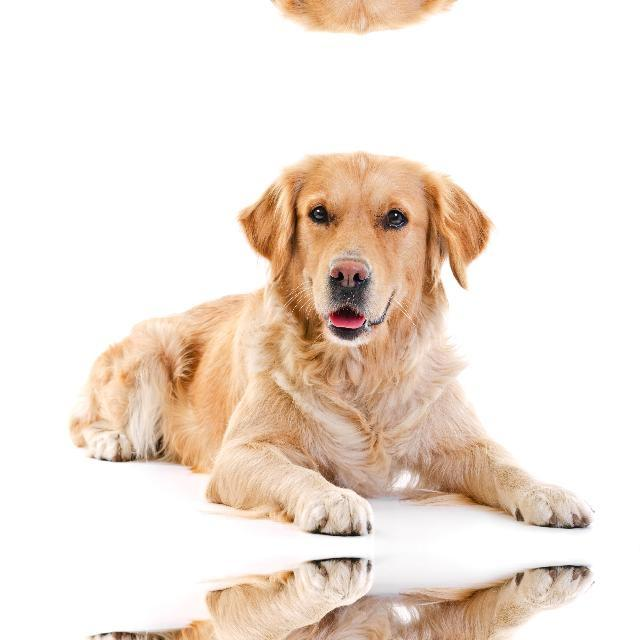dog: (77, 144, 616, 546), (76, 547, 615, 640), (76, 0, 615, 40)
